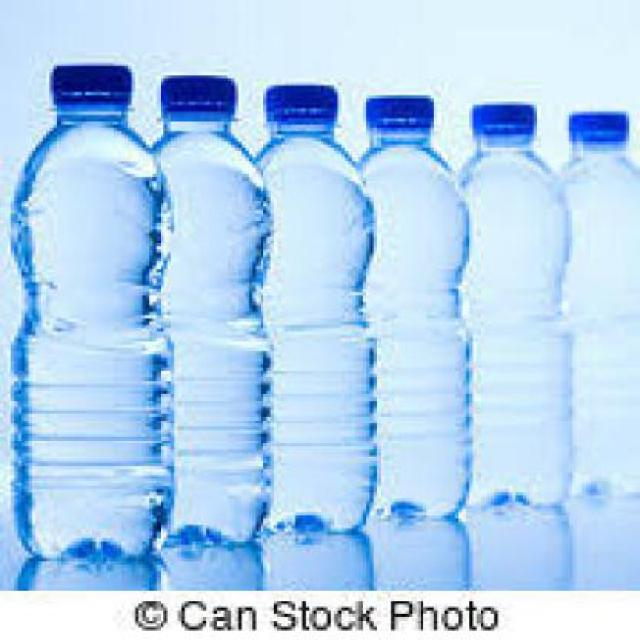plastic: (8, 63, 172, 555), (146, 72, 271, 548), (252, 81, 373, 532), (356, 92, 470, 520), (456, 98, 566, 506), (555, 116, 637, 490), (43, 63, 129, 115), (260, 83, 335, 129), (157, 73, 231, 119), (363, 92, 431, 135), (469, 98, 533, 141), (564, 108, 626, 147)
